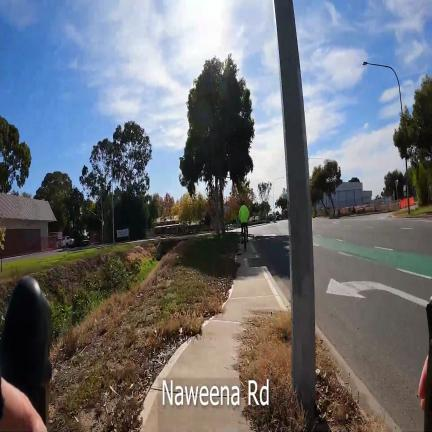Green_Bike_Lane: (314, 235, 432, 280)
